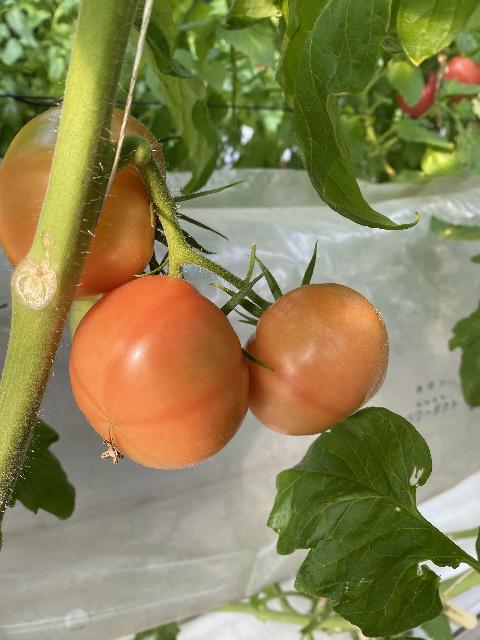b_half_ripened: (69, 275, 250, 470), (0, 103, 166, 302), (241, 282, 389, 437)
